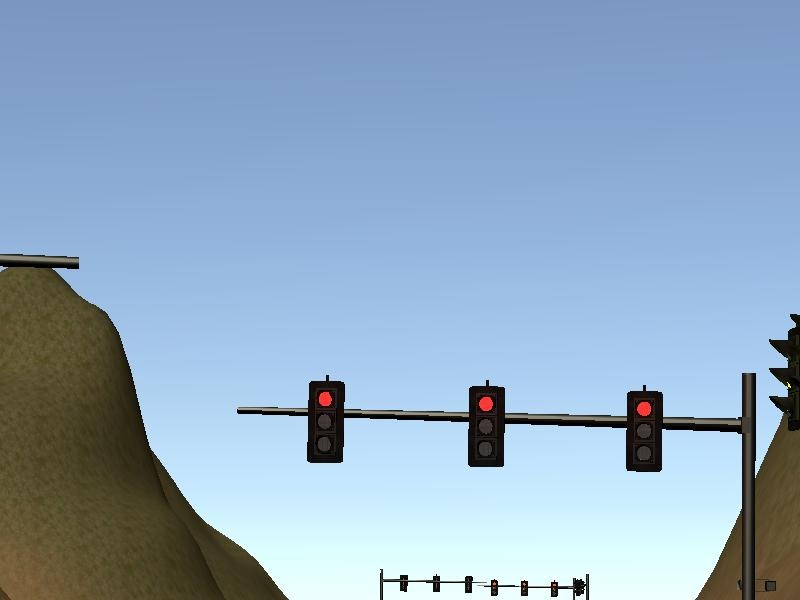red: (622, 388, 667, 476), (467, 387, 507, 470), (306, 380, 343, 463)
